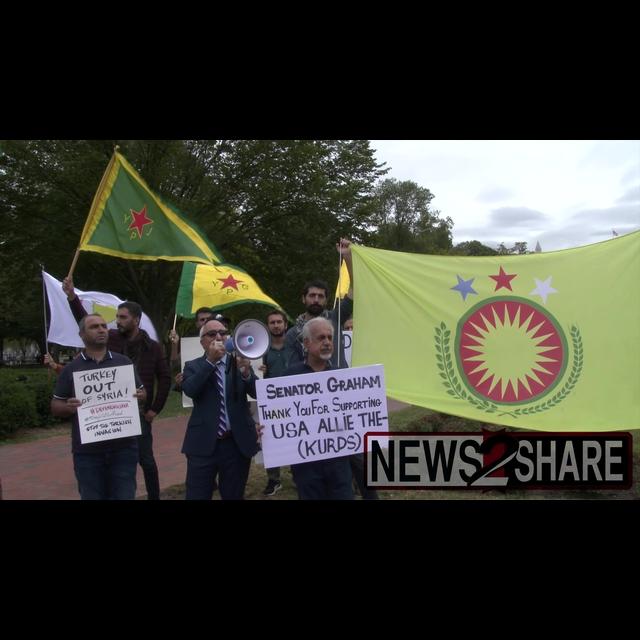YPG: (208, 267, 250, 297)
YPJ: (117, 201, 158, 244)
